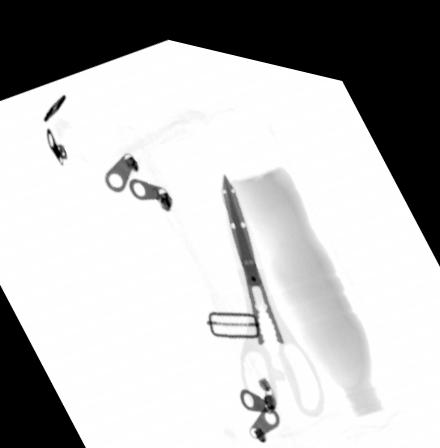Scissors: (221, 161, 322, 407)
